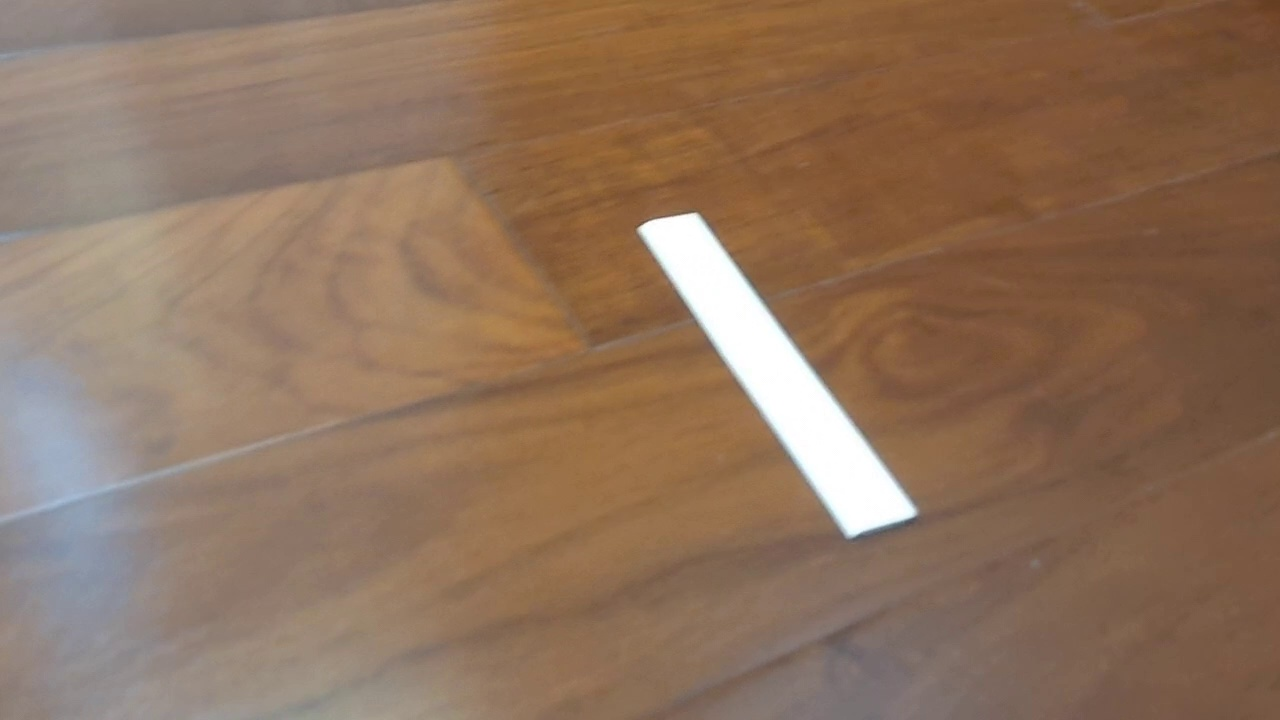ruler: (632, 208, 921, 542)
